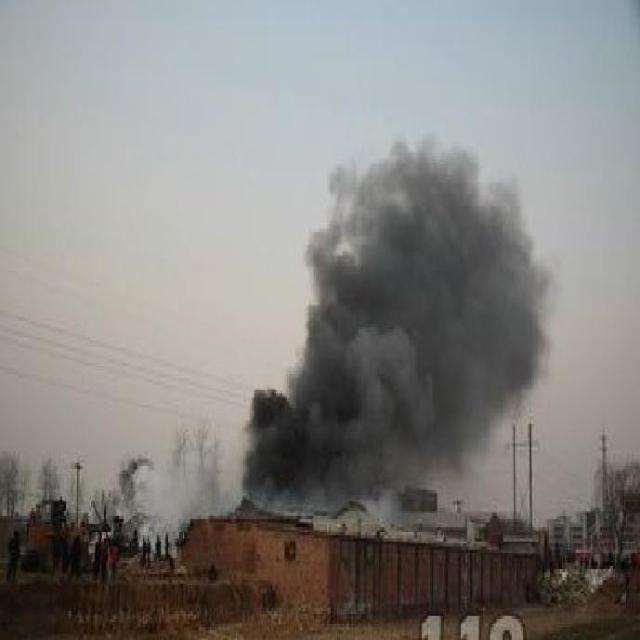smoke: (128, 135, 554, 520)
